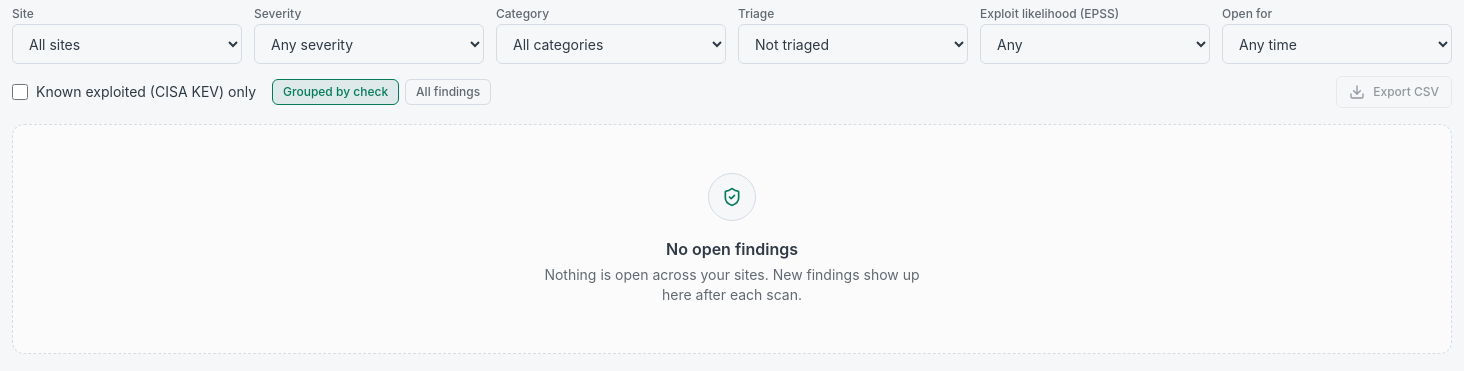
Test case: FindingsExplorer › explains an empty account and an empty filter result
Expected: the heading "No open findings" is shown, [666,237,798,261]
Expected: the button "Export CSV" is disabled, [1336,76,1452,108]
Click the checkbox labelled "Known exploited (CISA KEV) only".
click(20, 92)  # box [12,84,28,100]
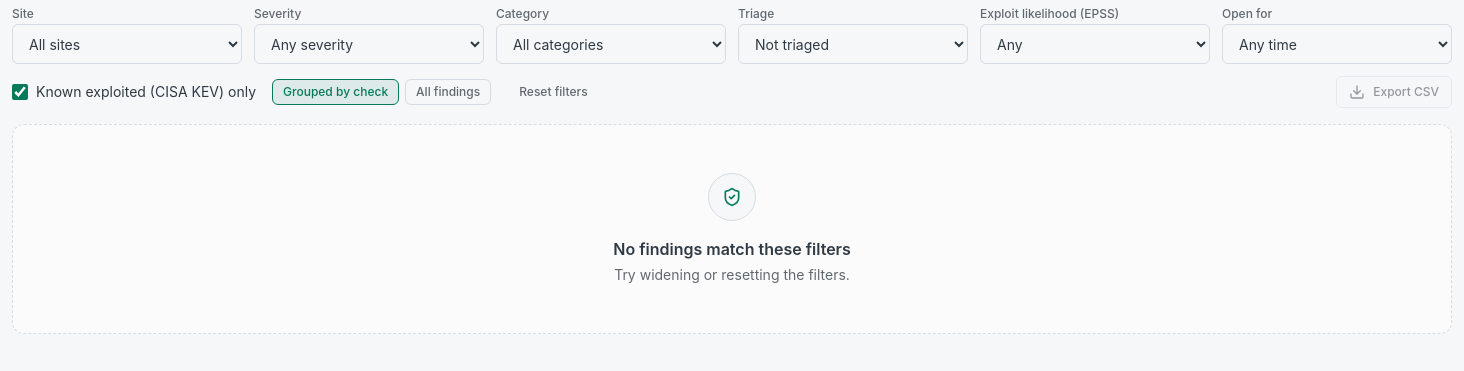
Now the heading "No findings match these filters" is shown, box [613,237,851,261]
